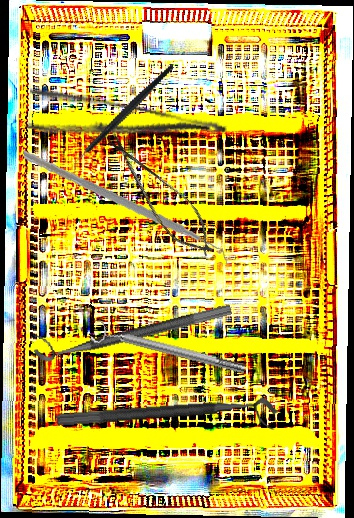Chopper: (23, 130, 228, 292), (49, 63, 198, 175)
Dressing Forceps: (22, 84, 229, 167)
Fixation Ring: (30, 287, 233, 365), (56, 397, 279, 445), (89, 317, 248, 383)
Micro Scissor: (94, 124, 226, 267)
